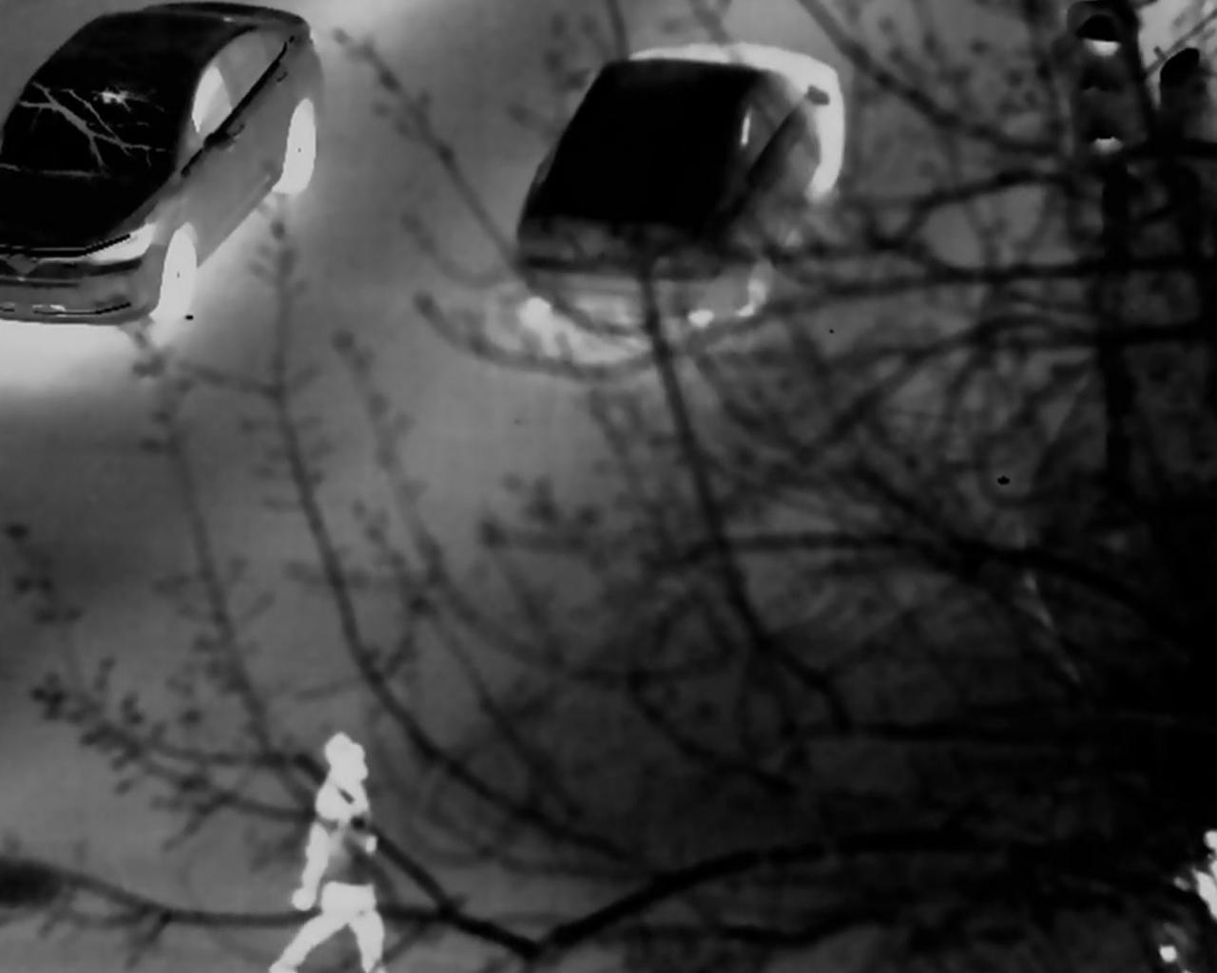person: (279, 725, 386, 973)
